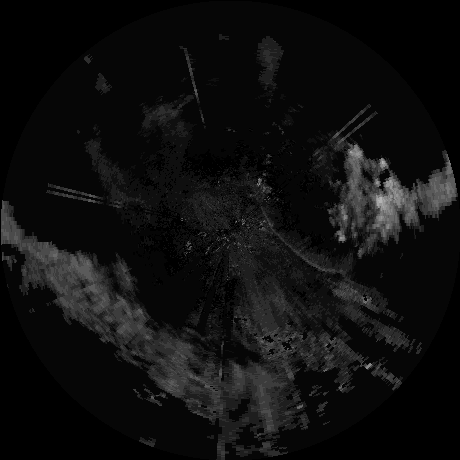frontgust: (258, 201, 344, 273)
